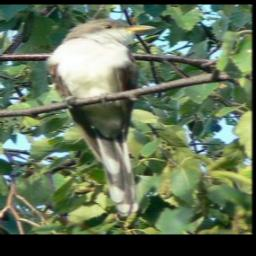Cuckoo: (47, 16, 156, 218)
